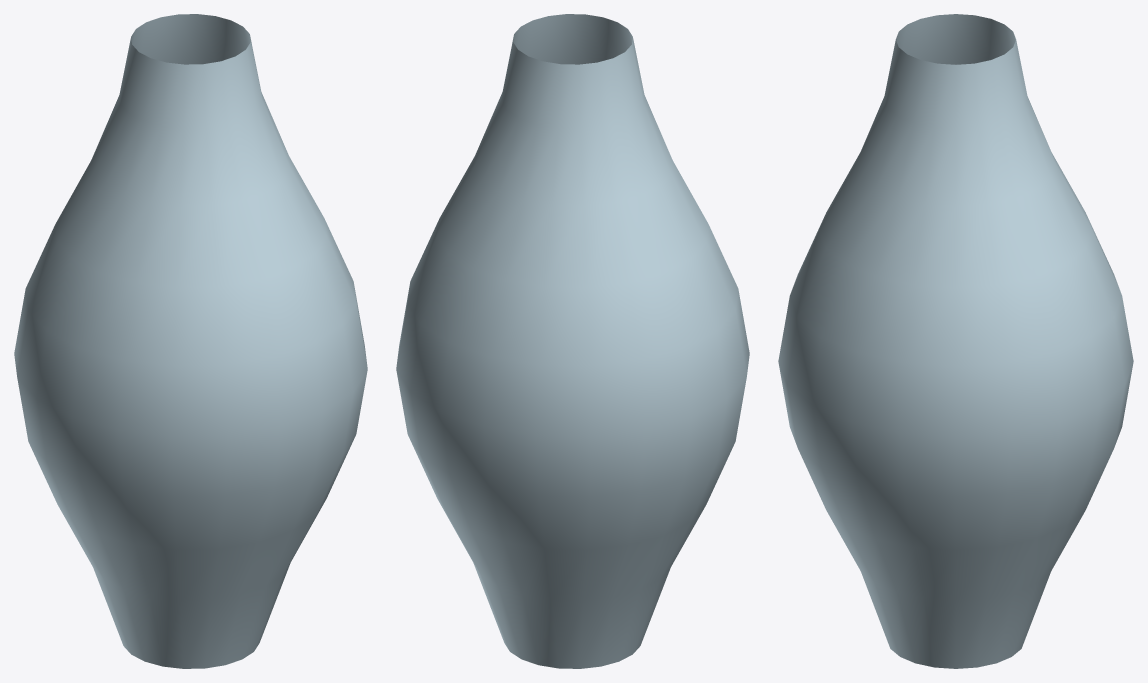
Rendered from Sut_Model_2.fbx.
The picture shows the model from 3 angles, left to right: view 1: azimuth 30°, elevation 25°; view 2: azimuth 150°, elevation 25°; view 3: azimuth 270°, elevation 25°; orthographic projection.
Visible parts, largest first — view 1: polySurface2; view 2: polySurface2; view 3: polySurface2.
Part boxes in pixels (box(x1,y1,x2,y2)): polySurface2: box(14, 14, 367, 668); polySurface2: box(396, 14, 749, 668); polySurface2: box(778, 14, 1133, 668).
Size of the model in its own units: 5.05 by 9.41 by 5.05.
